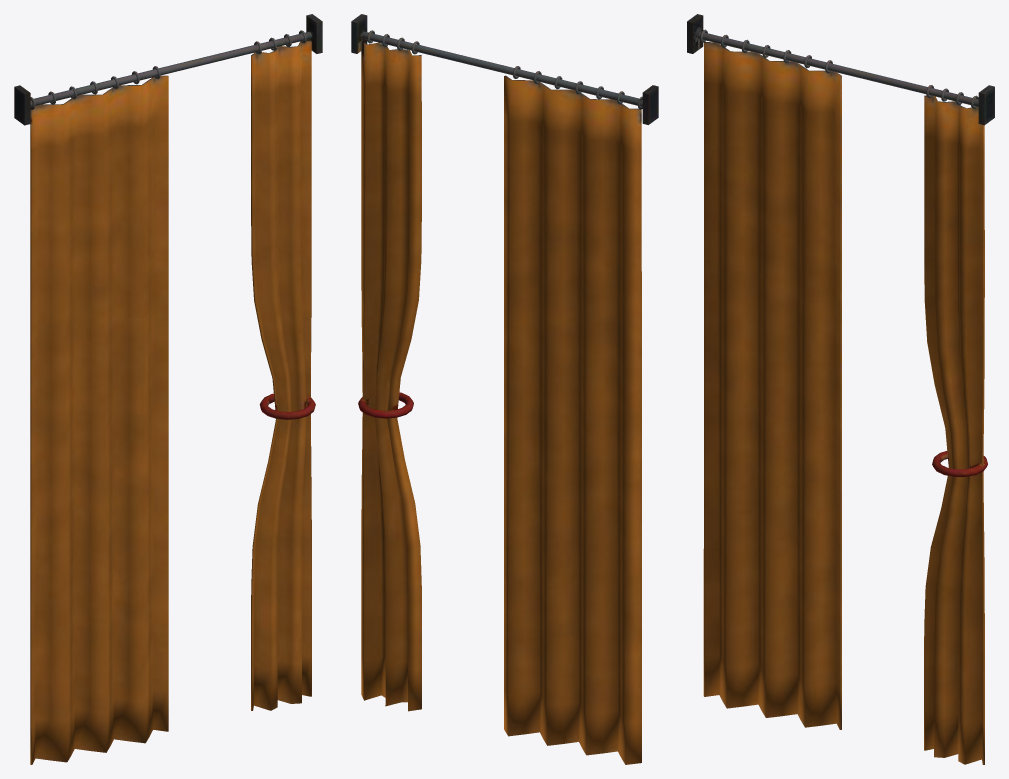
Rendered from doorway_curtain.glb.
The picture shows the model from 3 angles, left to right: view 1: azimuth 30°, elevation 25°; view 2: azimuth 150°, elevation 25°; view 3: azimuth 330°, elevation 25°; orthographic projection.
Parts seen in each view (by area): view 1: doorway_curtain; view 2: doorway_curtain; view 3: doorway_curtain.
Part boxes in pixels (x1=…): doorway_curtain: x1=14, y1=14, x2=322, y2=764; doorway_curtain: x1=351, y1=14, x2=658, y2=764; doorway_curtain: x1=687, y1=14, x2=994, y2=764.
Size of the model in its own units: 1 by 2.17 by 0.1631.
Materials: 1 (1 with a texture image).
